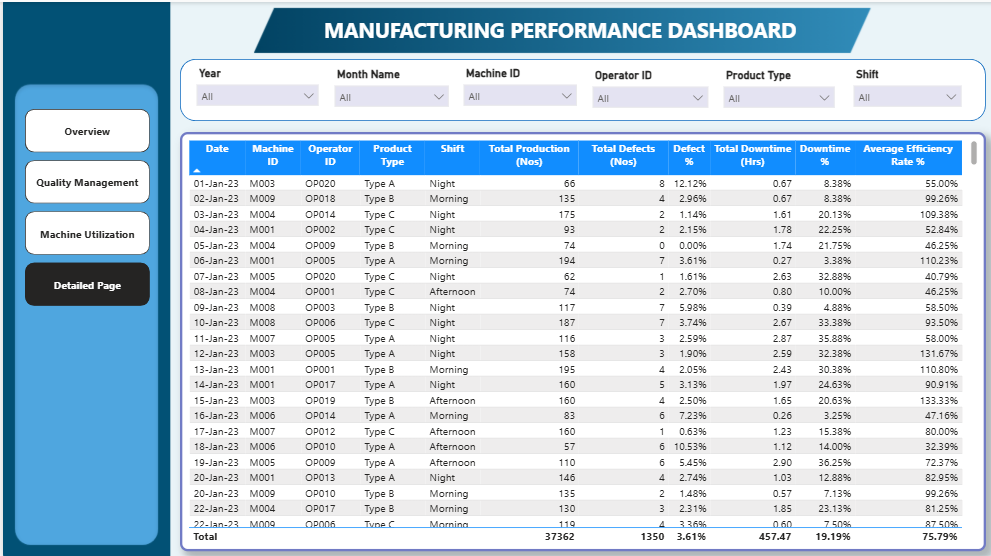

This screenshot's page, from the dashboard's own definition file:
{"tool":"powerbi","page":{"name":"Detailed Page","canvas":[1280,720],"ordinal":3},"visuals":[{"type":"pageNavigator","box":[28.3,137.5,161.6,255.1],"z":0},{"type":"shape","box":[228.8,72.9,1039.7,80.1],"z":1000},{"type":"slicer","fields":{"Values":["Calender table.Year"]},"box":[240.3,78.7,177.3,65.8],"z":2000},{"type":"slicer","fields":{"Values":["Calender table.Month Name"]},"box":[417.6,80.1,167.3,65.8],"z":3000},{"type":"slicer","fields":{"Values":["Manufacturing Data.Machine ID"]},"box":[584.9,78.7,165.9,65.8],"z":4000},{"type":"slicer","fields":{"Values":["Manufacturing Data.Operator ID"]},"box":[750.8,81.5,168.8,65.8],"z":5000},{"type":"slicer","fields":{"Values":["Manufacturing Data.Product Type"]},"box":[919.6,81.5,163,55.8],"z":6000},{"type":"slicer","fields":{"Values":["Manufacturing Data.Shift"]},"box":[1088.4,80.1,158.7,65.8],"z":7000},{"type":"tableEx","title":"Average Efficiency Rate by Machine ID","fields":{"Values":["Manufacturing Data.Date","Manufacturing Data.Machine ID","Manufacturing Data.Operator ID","Manufacturing Data.Product Type","Manufacturing Data.Shift","Measure Table.Total Production","Measure Table.Total Defects","Measure Table.Defect %","Measure Table.Total Downtime (Hrs)","Measure Table.Downtime %","Measure Table.Average Efficiency Rate"]},"box":[228.2,167.2,1040.3,541.4],"z":8000},{"type":"textbox","box":[391.2,12.9,655.8,48.9],"z":9000}]}

Visuals, with their boxes in screenshot pixels (x1, y1, x2, y2), scaled from the page's 1280x720 canvas onto the 991x556 screenshot:
pageNavigator: x1=22, y1=106, x2=147, y2=303
shape: x1=177, y1=56, x2=982, y2=118
slicer - Calender table.Year: x1=186, y1=61, x2=323, y2=112
slicer - Calender table.Month Name: x1=323, y1=62, x2=453, y2=113
slicer - Manufacturing Data.Machine ID: x1=453, y1=61, x2=581, y2=112
slicer - Manufacturing Data.Operator ID: x1=581, y1=63, x2=712, y2=114
slicer - Manufacturing Data.Product Type: x1=712, y1=63, x2=838, y2=106
slicer - Manufacturing Data.Shift: x1=843, y1=62, x2=966, y2=113
"Average Efficiency Rate by Machine ID" tableEx: x1=177, y1=129, x2=982, y2=547
textbox: x1=303, y1=10, x2=811, y2=48
